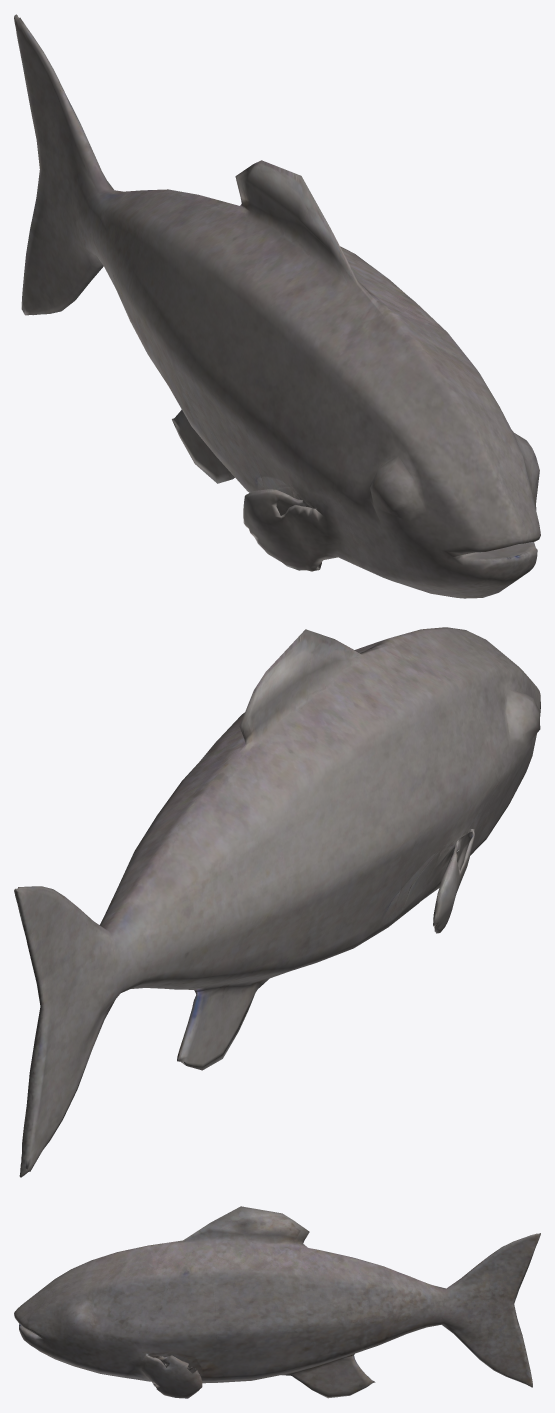
The model's file is fish-raw-standard.glb.
The picture shows the model from 3 angles, top to bottom: view 1: azimuth 30°, elevation 25°; view 2: azimuth 150°, elevation 25°; view 3: azimuth 270°, elevation 25°; orthographic projection. The views are drawn at different scales.
Parts seen in each view (by area): view 1: file1; view 2: file1; view 3: file1.
Part boxes in pixels (left/top/right/bottom): file1: left=14, top=14, right=540, bottom=598; file1: left=14, top=627, right=540, bottom=1177; file1: left=14, top=1206, right=540, bottom=1398.
Size of the model in its own units: 0.4631 by 0.8044 by 2.
Materials: 1 (1 with a texture image).
